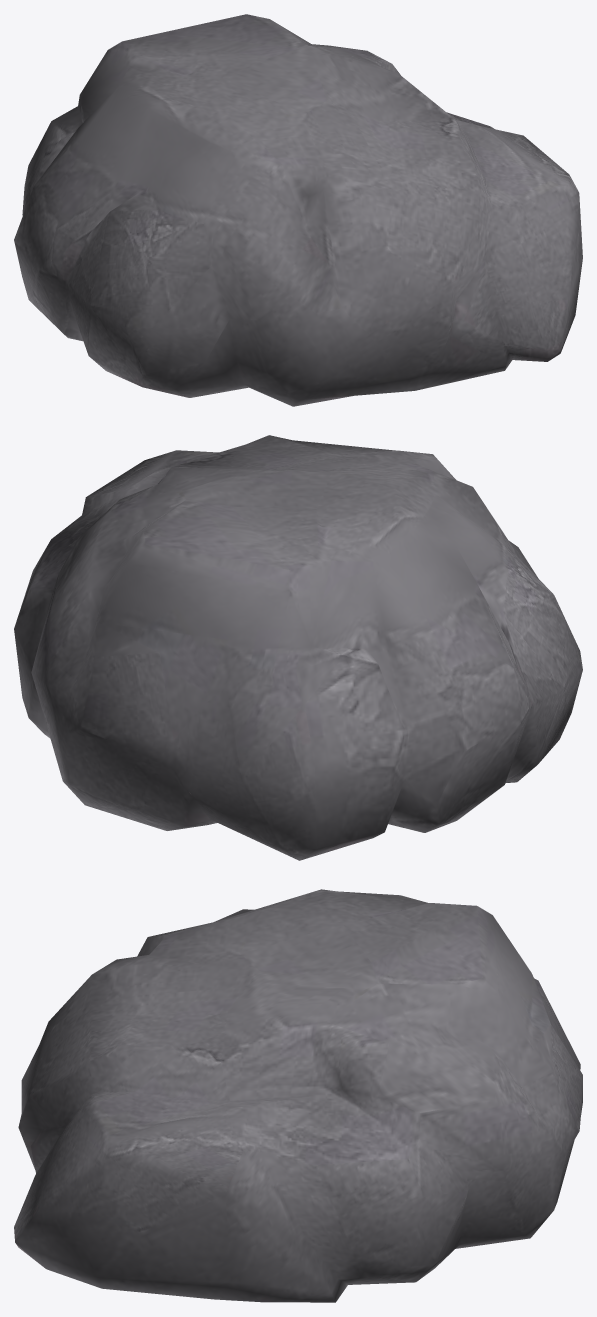
File: rock_a.glb
3 renders of one model, top to bottom at view 1: azimuth 30°, elevation 25°; view 2: azimuth 150°, elevation 25°; view 3: azimuth 270°, elevation 25°, orthographic. The views are drawn at different scales.
Parts seen in each view (by area): view 1: tripo_node_e4fea124-cbc9-4809-b56b-4074db42c73f; view 2: tripo_node_e4fea124-cbc9-4809-b56b-4074db42c73f; view 3: tripo_node_e4fea124-cbc9-4809-b56b-4074db42c73f.
Part boxes in pixels (bbox=[...]): tripo_node_e4fea124-cbc9-4809-b56b-4074db42c73f: bbox=[14, 14, 582, 406]; tripo_node_e4fea124-cbc9-4809-b56b-4074db42c73f: bbox=[14, 435, 582, 860]; tripo_node_e4fea124-cbc9-4809-b56b-4074db42c73f: bbox=[14, 889, 582, 1302].
Bounding box in the file's own units: 0.9629 × 0.502 × 0.998.
Materials: 1 (1 with a texture image).
